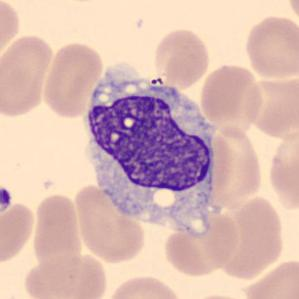Monocyte: (76, 68, 228, 236)
Platelets: (0, 184, 13, 215)
RBC: (212, 192, 286, 280), (72, 181, 148, 264), (160, 202, 241, 279), (205, 123, 265, 212), (40, 40, 106, 120), (0, 32, 57, 119), (198, 62, 264, 132), (30, 191, 84, 270), (20, 252, 108, 299), (151, 25, 212, 89), (243, 12, 298, 81), (246, 76, 299, 143), (265, 125, 299, 214), (240, 256, 299, 298), (0, 199, 37, 265), (105, 272, 186, 299), (0, 0, 23, 66), (285, 0, 299, 26)
